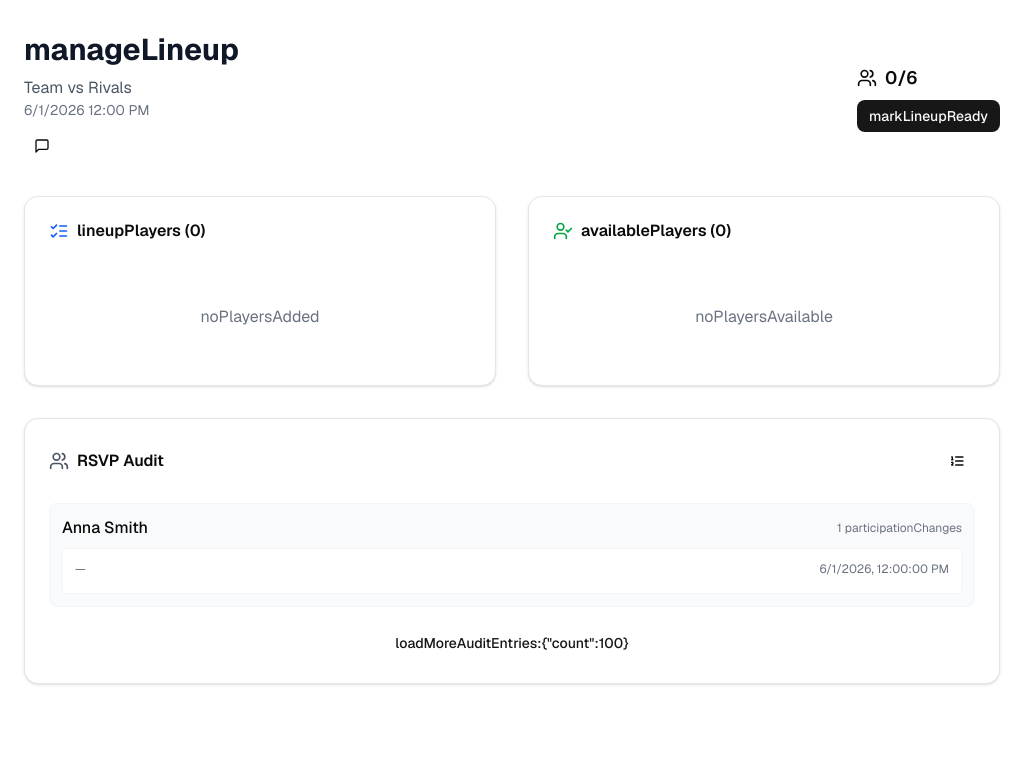
Test: lineup audit pagination › shows an error when loading fails
The image size is (1024, 768).
What coordinates should you click on to do the following:
click the button "loadMoreAuditEntries:{\"count\":100}"
I would click on:
 (512, 643)
Its box is [383,627,641,659].
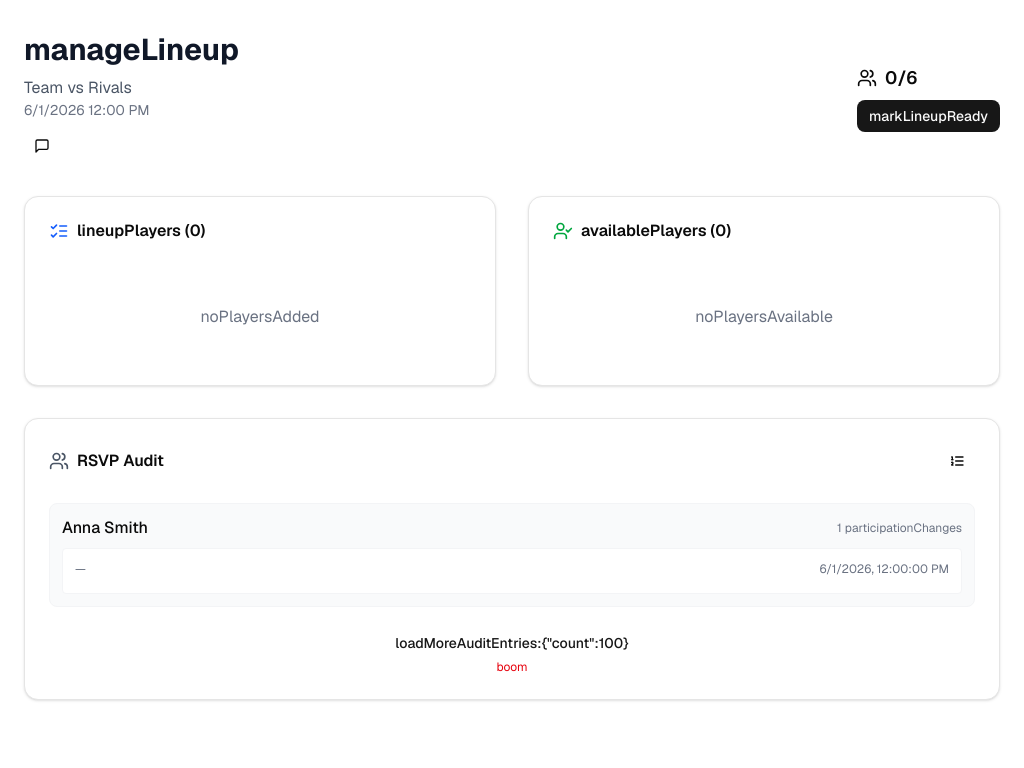
Result: the text "boom" is shown at [496,659,528,675]
